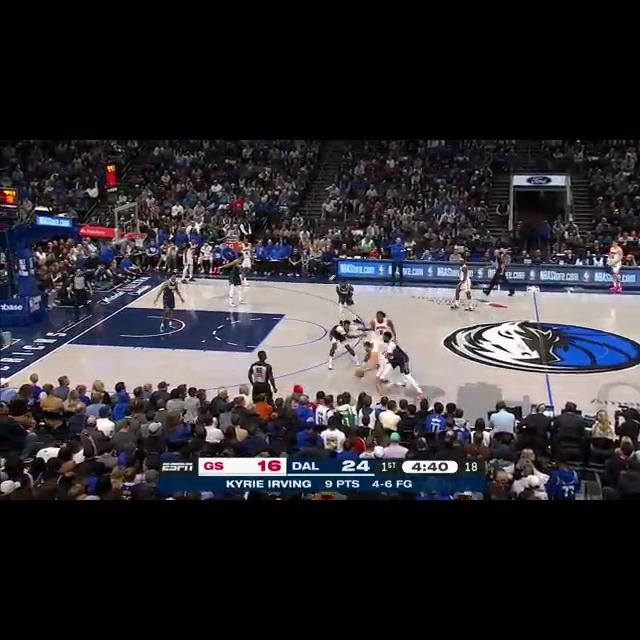Ball: (353, 366, 365, 379)
Team-1-Player: (382, 330, 421, 398), (152, 274, 186, 336), (216, 255, 254, 308), (322, 320, 360, 368), (330, 276, 360, 322)
Team-2-Player: (359, 339, 397, 398), (450, 255, 476, 311), (364, 309, 402, 335), (180, 237, 198, 280), (239, 240, 255, 278)
